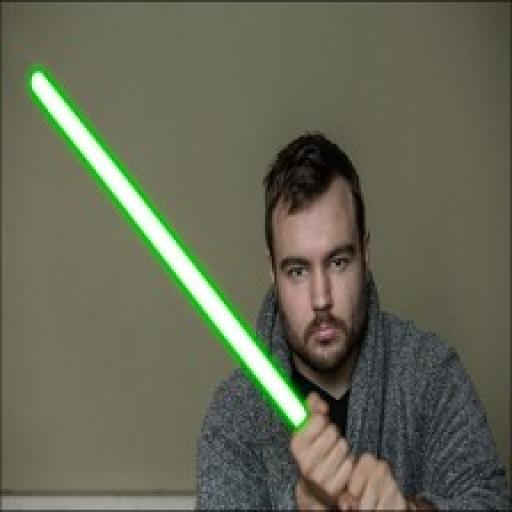human: (198, 134, 512, 512)
lightsaber: (30, 70, 309, 426)
